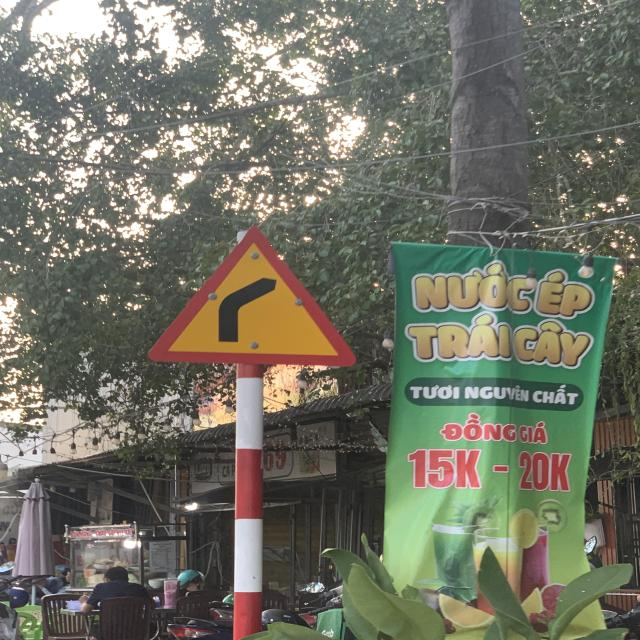Duong_Nguoi_Di_Bo_Cat_Ngang: (144, 223, 353, 365)
